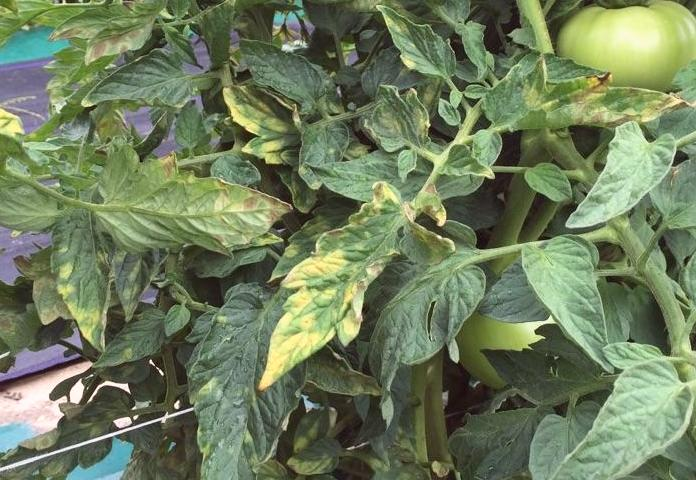Tomato mold leaf: (255, 197, 409, 390), (73, 136, 284, 262), (530, 361, 696, 480), (515, 229, 611, 375), (492, 59, 678, 131), (565, 124, 677, 236), (70, 41, 209, 116), (61, 202, 121, 350), (359, 85, 433, 162), (0, 175, 69, 234)
